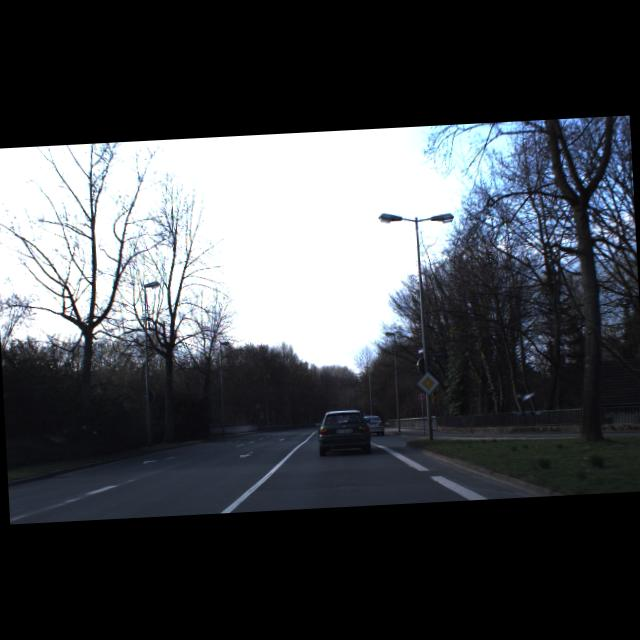other: (416, 371, 441, 396)
